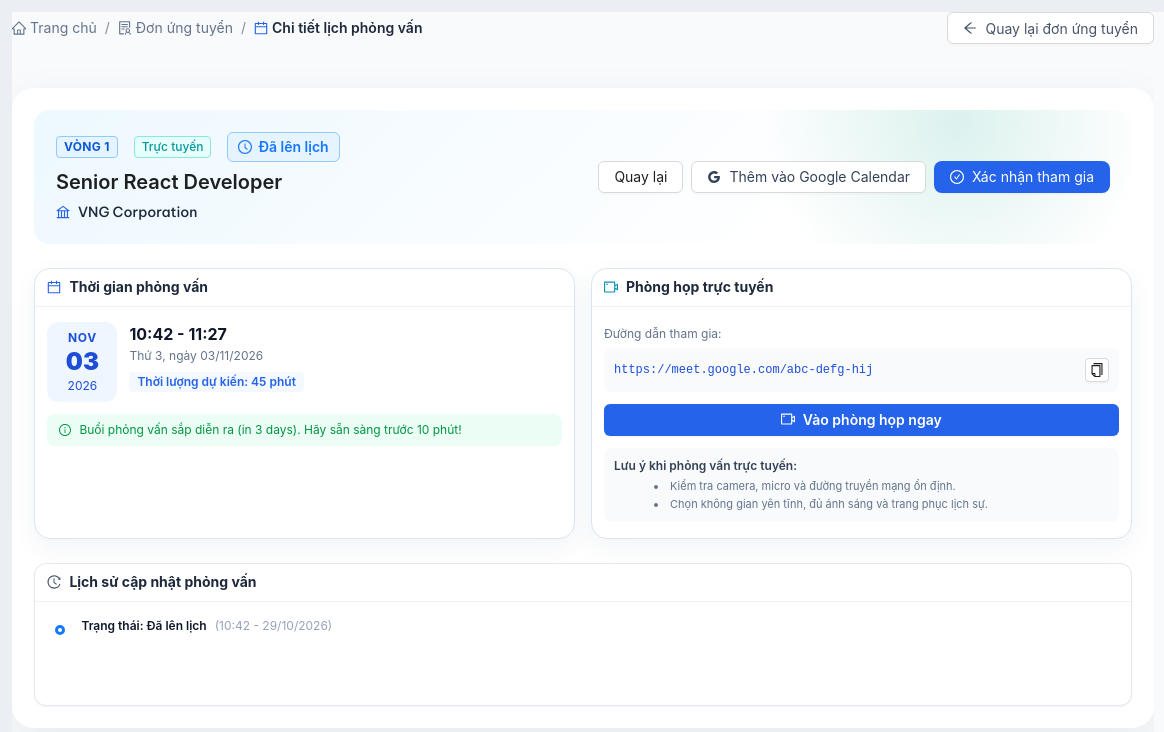
it: CandidateInterviewDetailPage & CandidateInterviewDetailView › lets the Candidate confirm an upcoming interview and updates the confirmation state
Click the button "Xác nhận tham gia": coordinates (1022, 177) [934,161,1110,193]
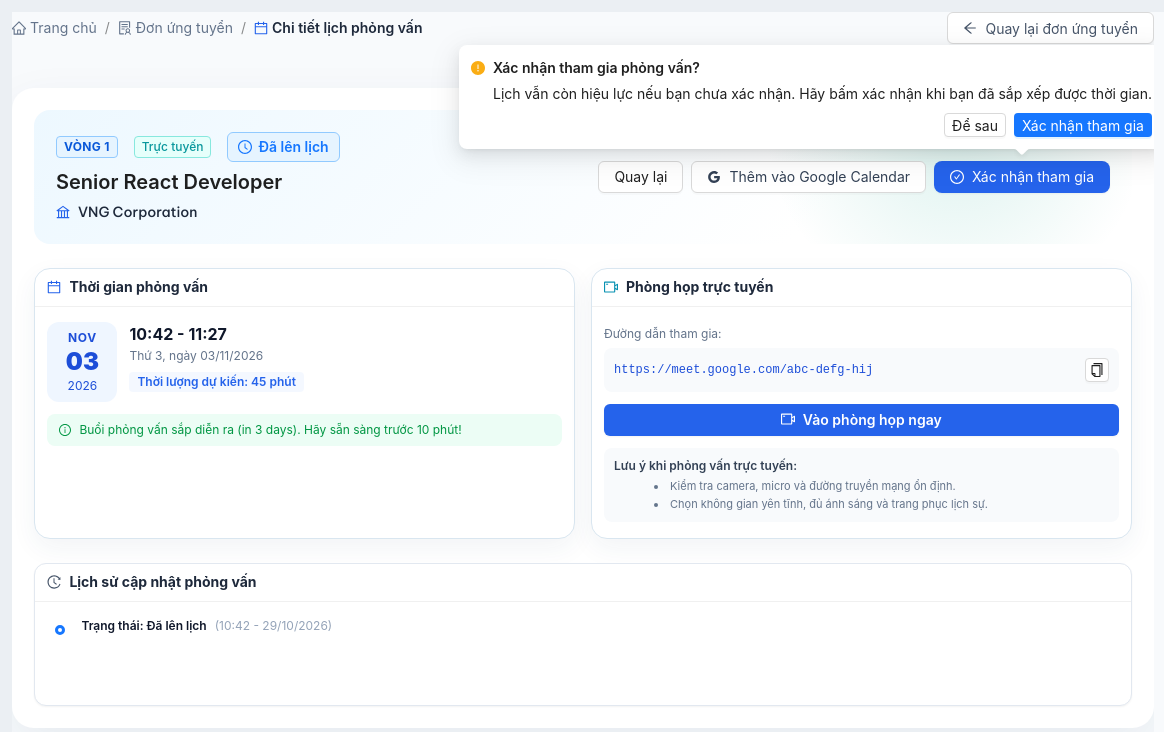
Expected: the text "Xác nhận tham gia phỏng vấn?" is shown, [493,59,700,76]
Click the 1st button "Xác nhận tham gia": coordinates (1083, 125) [1014,113,1152,137]
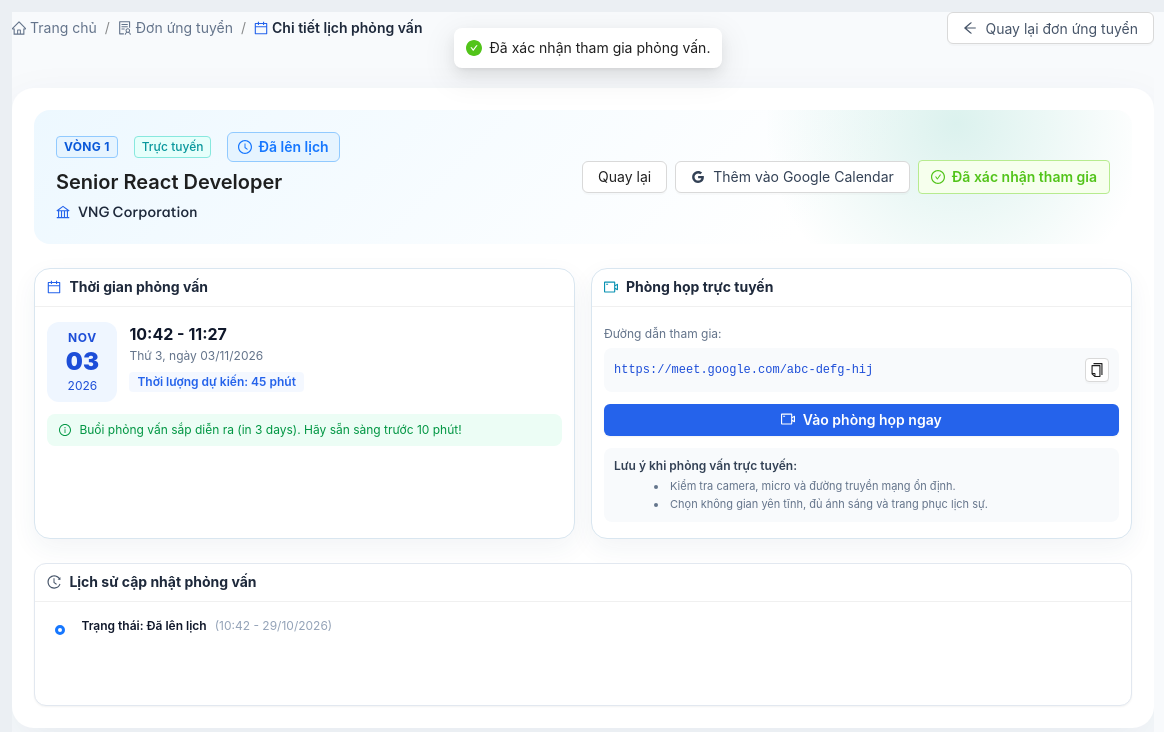
Expected: the text "Đã xác nhận tham gia" is shown, [952,168,1097,185]
